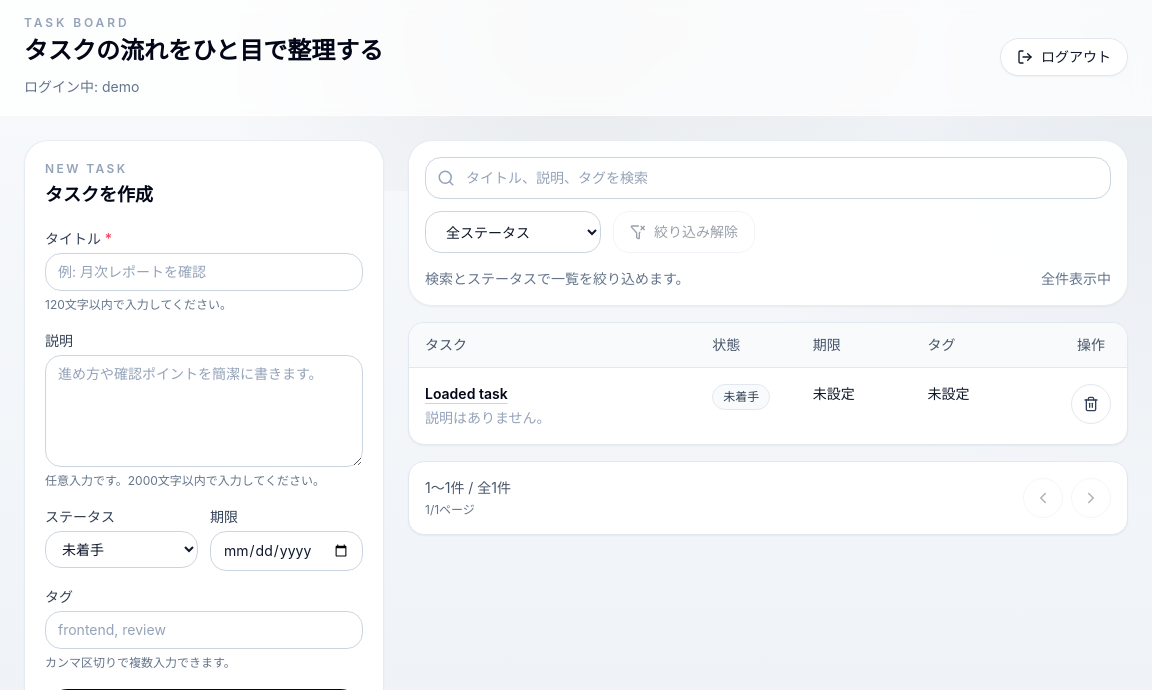
Test: TaskBoard › shows task operation failures inline without replacing the task list error state
expect the button "Loaded task" is shown: met, box [425,384,508,404]
In the field labelled "タイトル *": (204, 272) [45,253,363,291], type "New task"
(page scrolled)
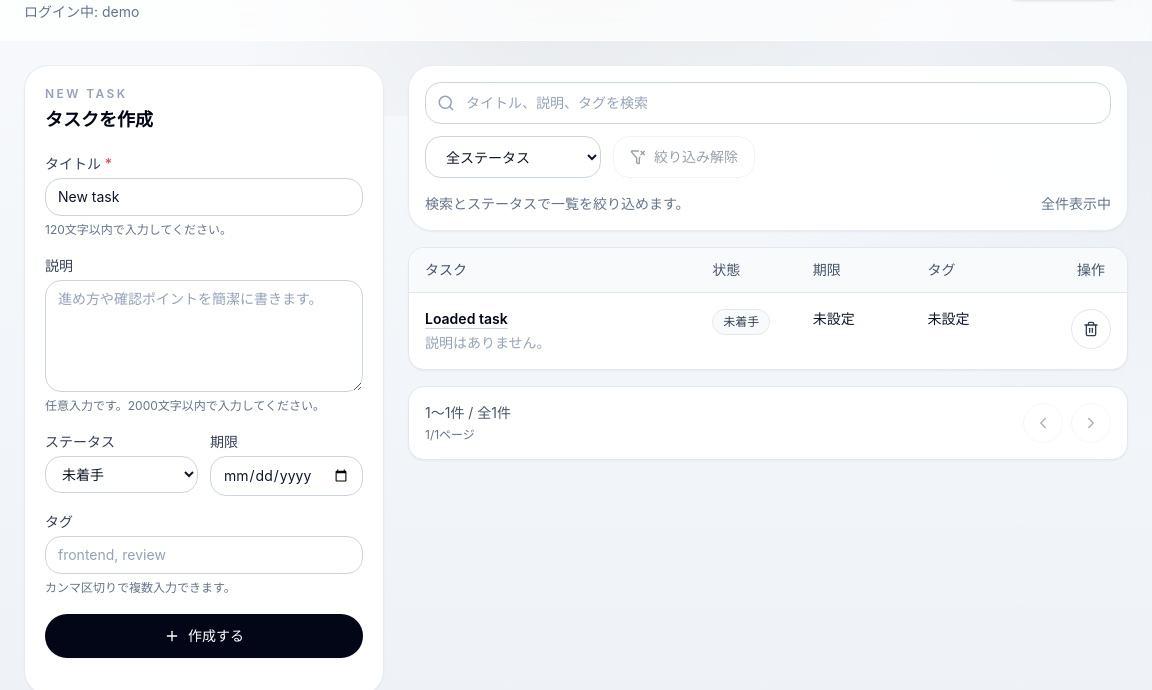
Click the button "作成する": (204, 636) [45,614,363,658]
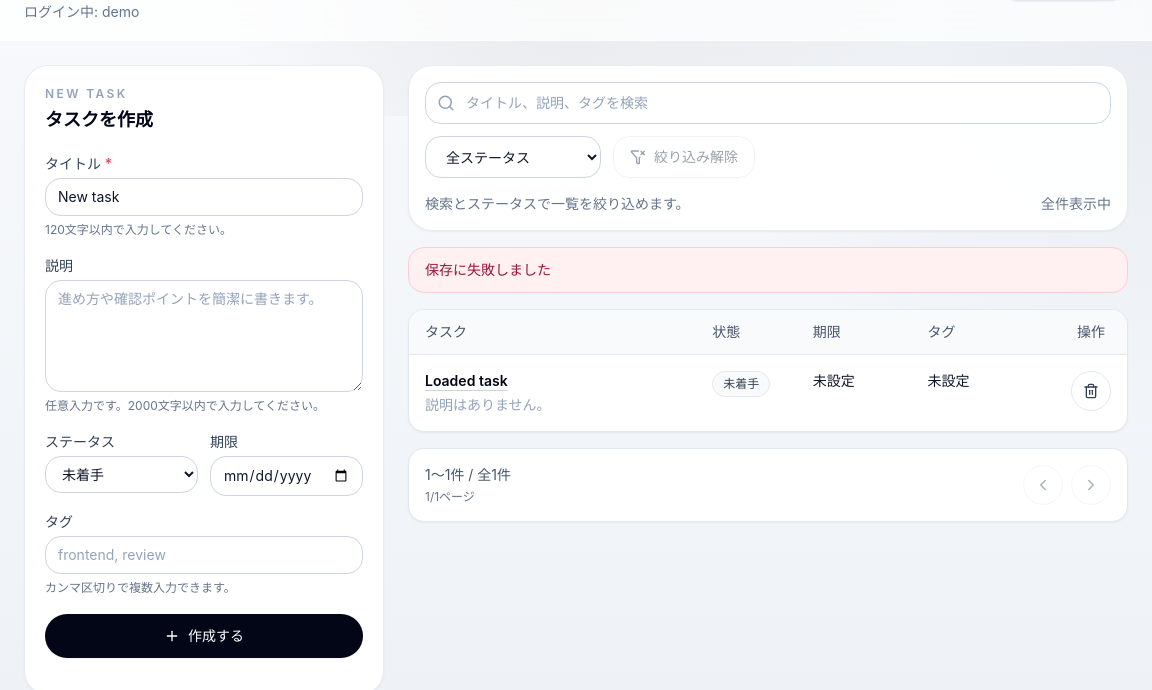
expect the text "保存に失敗しました" is shown: met, box [408,247,1128,293]
